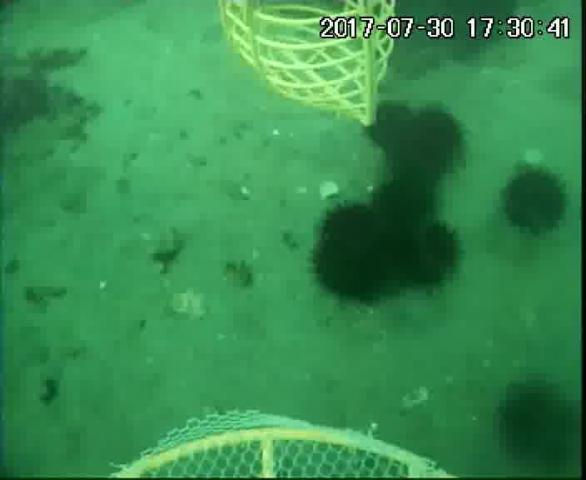echinus: (491, 368, 585, 473), (392, 108, 468, 188), (314, 229, 389, 306), (392, 218, 463, 293), (500, 165, 572, 237), (372, 178, 433, 243), (319, 202, 389, 251), (366, 100, 420, 155)
